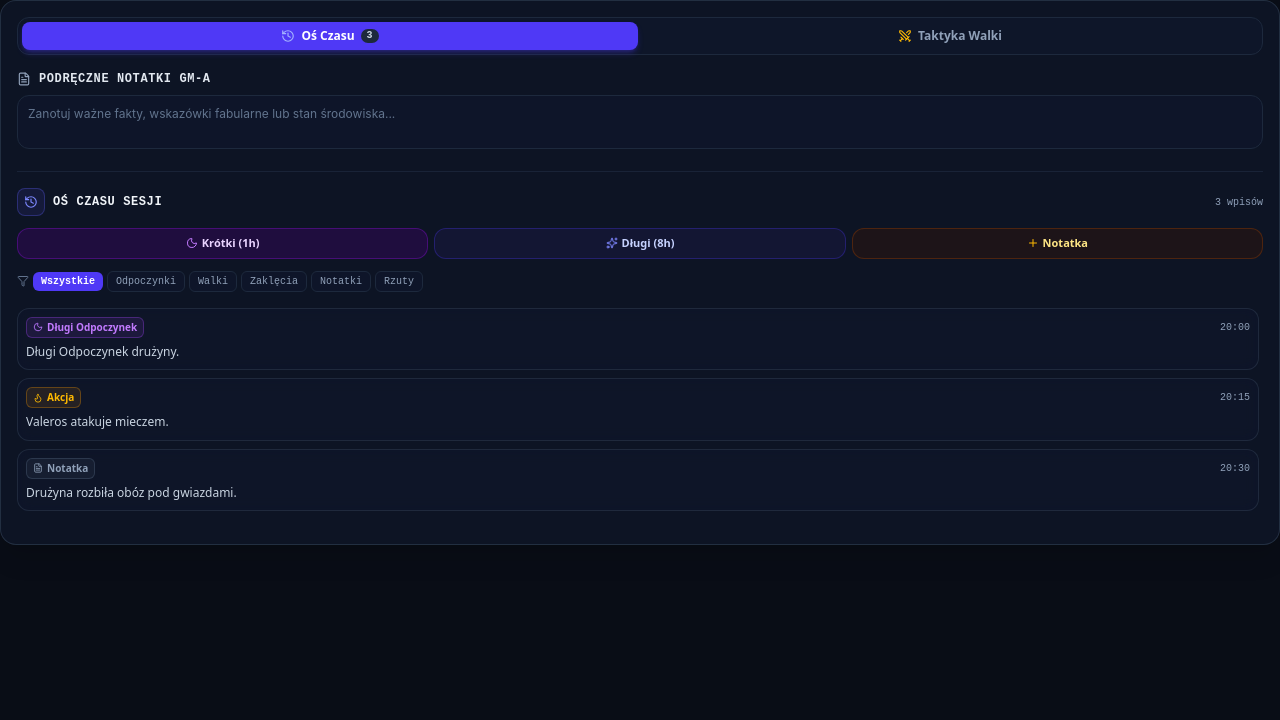
it: TimelineSidebar (Chunk 7.2) › switches between timeline and tactics tabs without all tab or quick dice
Check: the button with test id "sidebar-tab-timeline" is shown, box [22, 22, 638, 50]
Check: the heading "Oś Czasu Sesji" is shown, box [53, 194, 162, 210]
# Switch to 'tactics' tab: timeline and notes are hidden, add combatant panel is present
Click the button with test id "sidebar-tab-tactics".
click(950, 36)  # box [642, 22, 1258, 50]
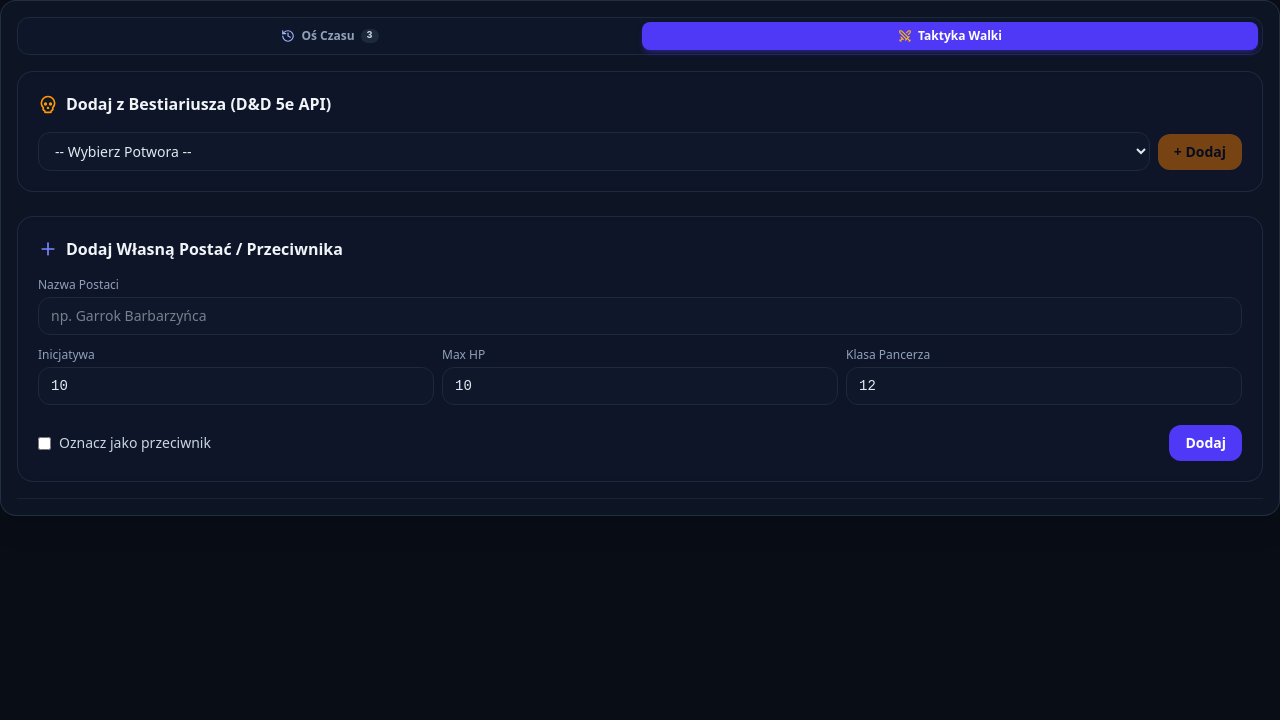
Check: the heading "Oś Czasu Sesji" is gone
Check: the heading "Podręczne Notatki GM-a" is gone
Check: the heading "Dodaj z Bestiariusza (D&D 5e API)" is shown, box [38, 93, 331, 115]
# Switch back to 'timeline' tab: timeline is visible again
Click the button with test id "sidebar-tab-timeline".
click(330, 36)  # box [22, 22, 638, 50]
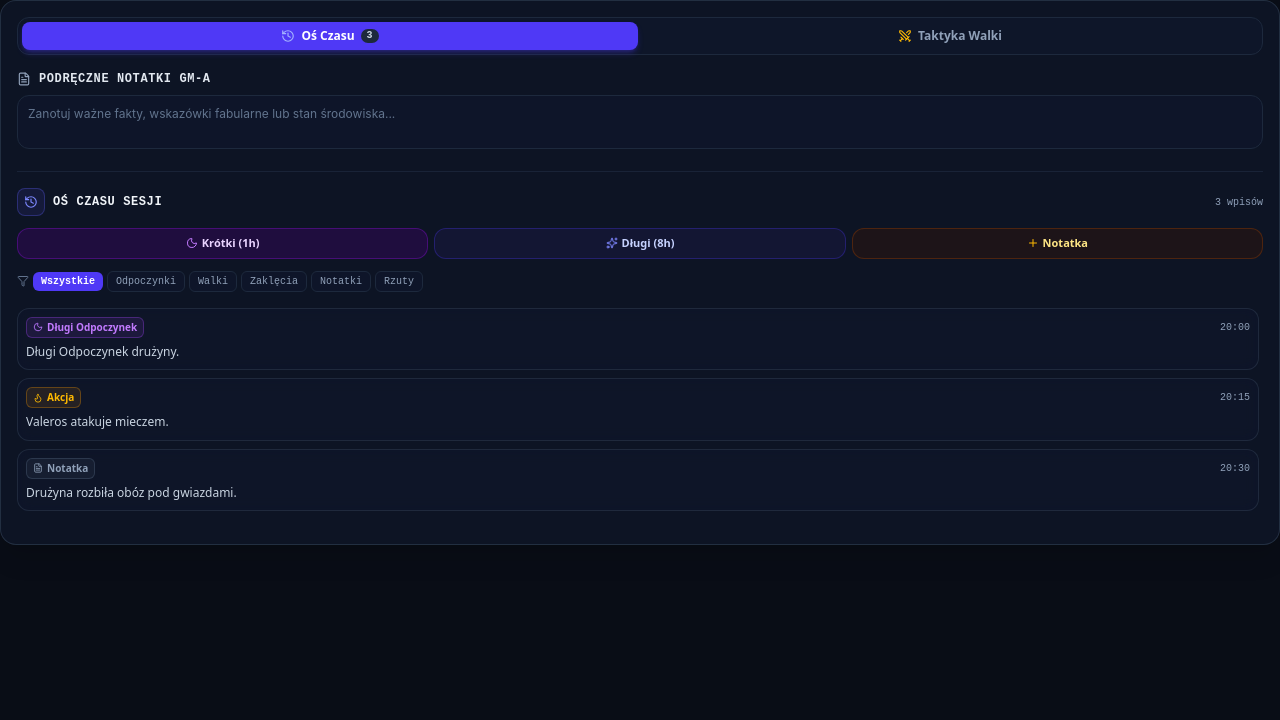
Check: the heading "Oś Czasu Sesji" is shown, box [53, 194, 162, 210]
Check: the heading "Podręczne Notatki GM-a" is shown, box [39, 71, 211, 87]
